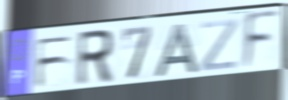7: (121, 24, 154, 83)
A: (152, 22, 202, 80)
F: (240, 8, 281, 75), (33, 33, 75, 91)
R: (74, 27, 115, 89)
Z: (199, 17, 240, 74)
